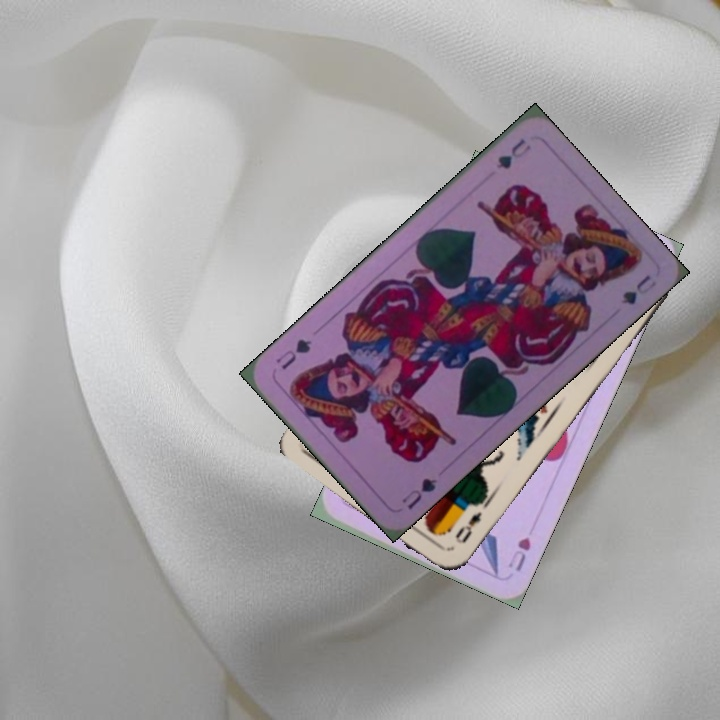EO: (451, 507, 485, 547)
GU: (397, 474, 440, 512), (492, 134, 534, 172)
HU: (504, 533, 534, 574)
